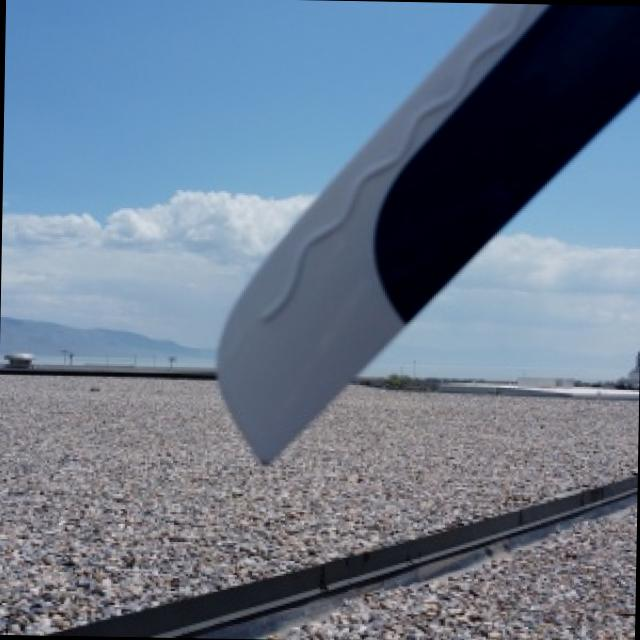healthy: (219, 3, 640, 460)
